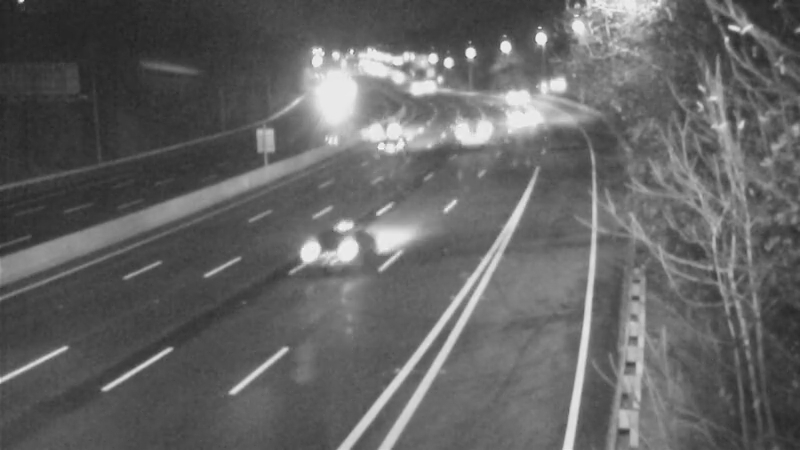vehicle: (287, 217, 367, 297), (492, 71, 542, 121), (491, 97, 541, 147), (355, 102, 405, 152), (453, 104, 503, 154), (378, 118, 428, 168)
